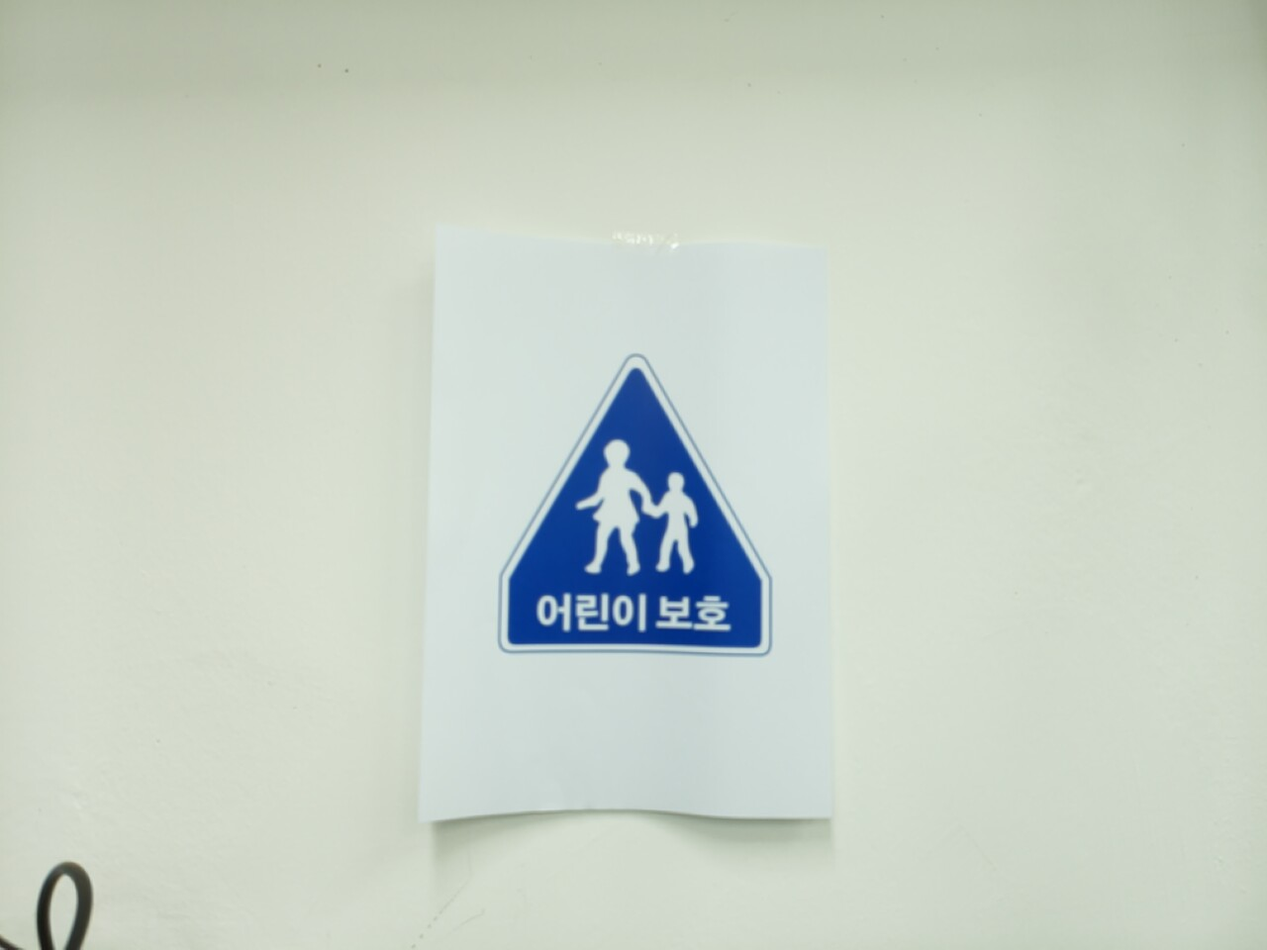school_zone: (499, 359, 771, 657)
